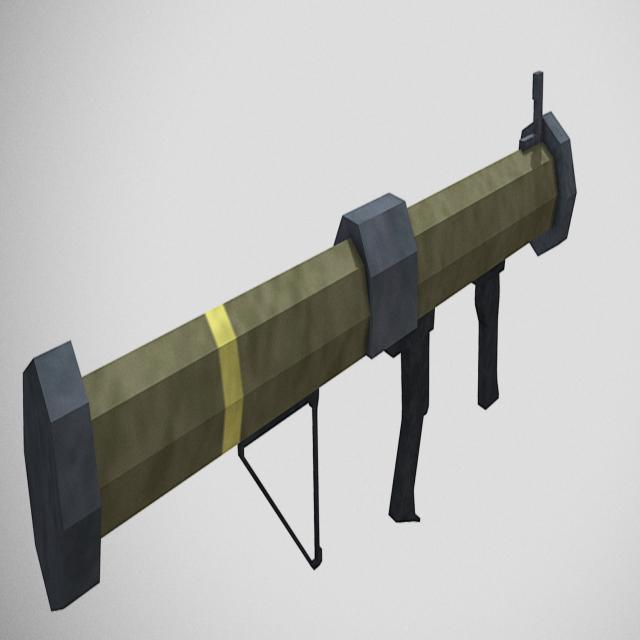bazooka: (4, 46, 597, 625)
